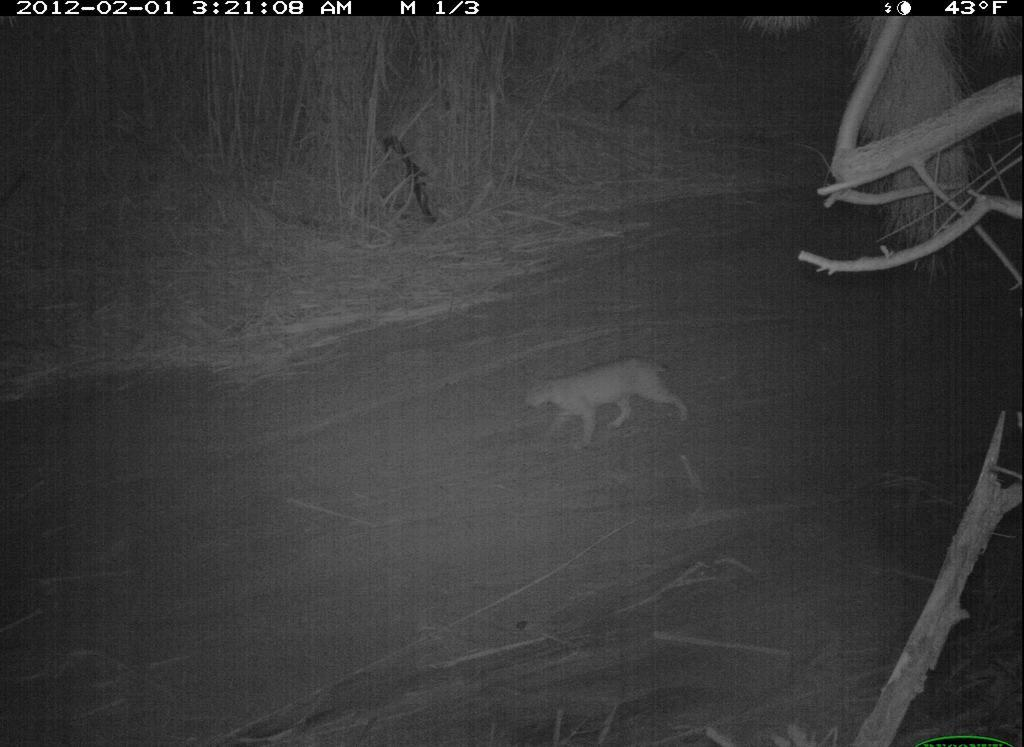bobcat: (511, 353, 705, 464)
